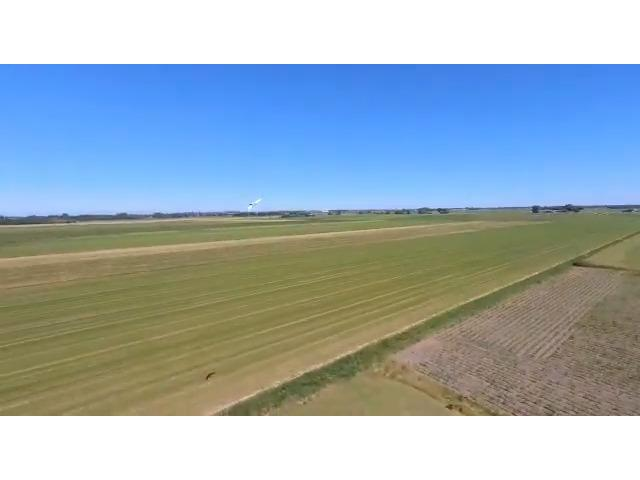Anti-Drone: (238, 192, 270, 216)
